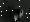person: (16, 7, 24, 21)
